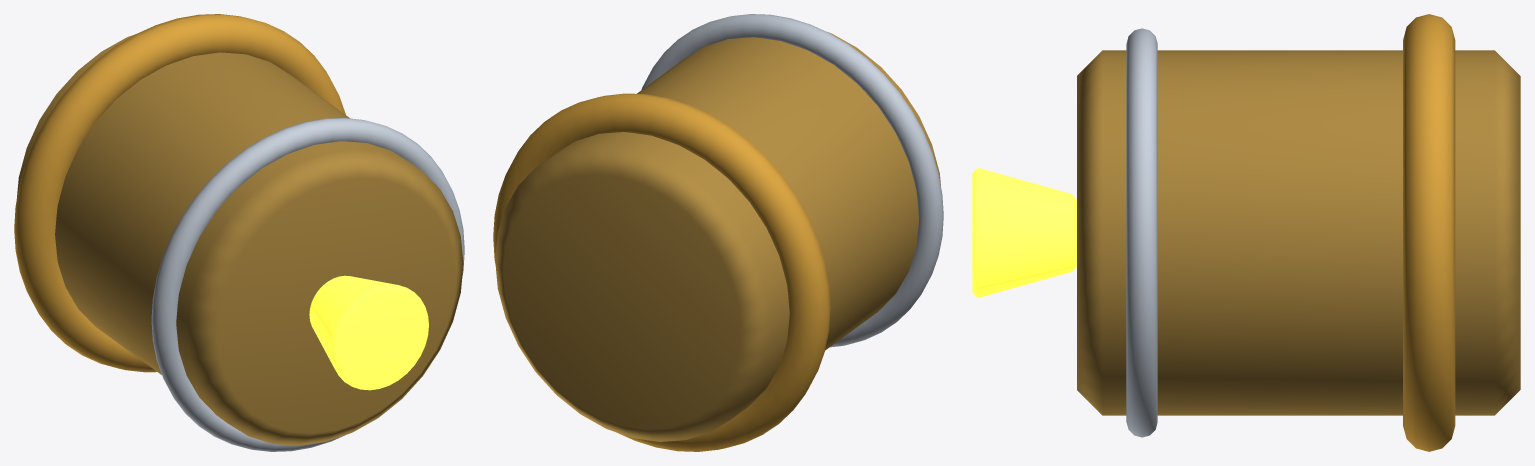
File: proj_nova_shell_t2.glb
3 renders of one model, left to right at view 1: azimuth 30°, elevation 25°; view 2: azimuth 150°, elevation 25°; view 3: azimuth 270°, elevation 25°, orthographic. The views are drawn at different scales.
Parts seen in each view (by area): view 1: proj_nova_shell_t2_body, proj_nova_shell_t2_burn_band, proj_nova_shell_t2_band, proj_nova_shell_t2_fuse; view 2: proj_nova_shell_t2_body, proj_nova_shell_t2_burn_band, proj_nova_shell_t2_band; view 3: proj_nova_shell_t2_body, proj_nova_shell_t2_burn_band, proj_nova_shell_t2_band, proj_nova_shell_t2_fuse.
Part boxes in pixels (x1,y1,x2,y2): proj_nova_shell_t2_body: [17, 34, 463, 445]; proj_nova_shell_t2_burn_band: [14, 14, 345, 372]; proj_nova_shell_t2_band: [151, 118, 464, 451]; proj_nova_shell_t2_fuse: [309, 275, 428, 390]; proj_nova_shell_t2_body: [495, 32, 940, 441]; proj_nova_shell_t2_burn_band: [493, 93, 830, 451]; proj_nova_shell_t2_band: [641, 14, 943, 347]; proj_nova_shell_t2_body: [1077, 50, 1520, 415]; proj_nova_shell_t2_burn_band: [1403, 14, 1455, 451]; proj_nova_shell_t2_band: [1126, 28, 1157, 437]; proj_nova_shell_t2_fuse: [972, 168, 1076, 297].
Size of what is drawn, in the model's own units: 0.336 by 0.336 by 0.42.
